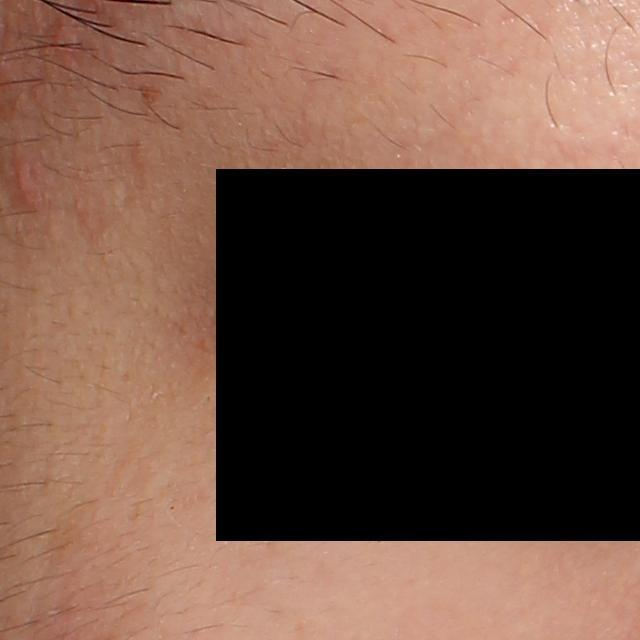papule: (11, 156, 42, 206)
